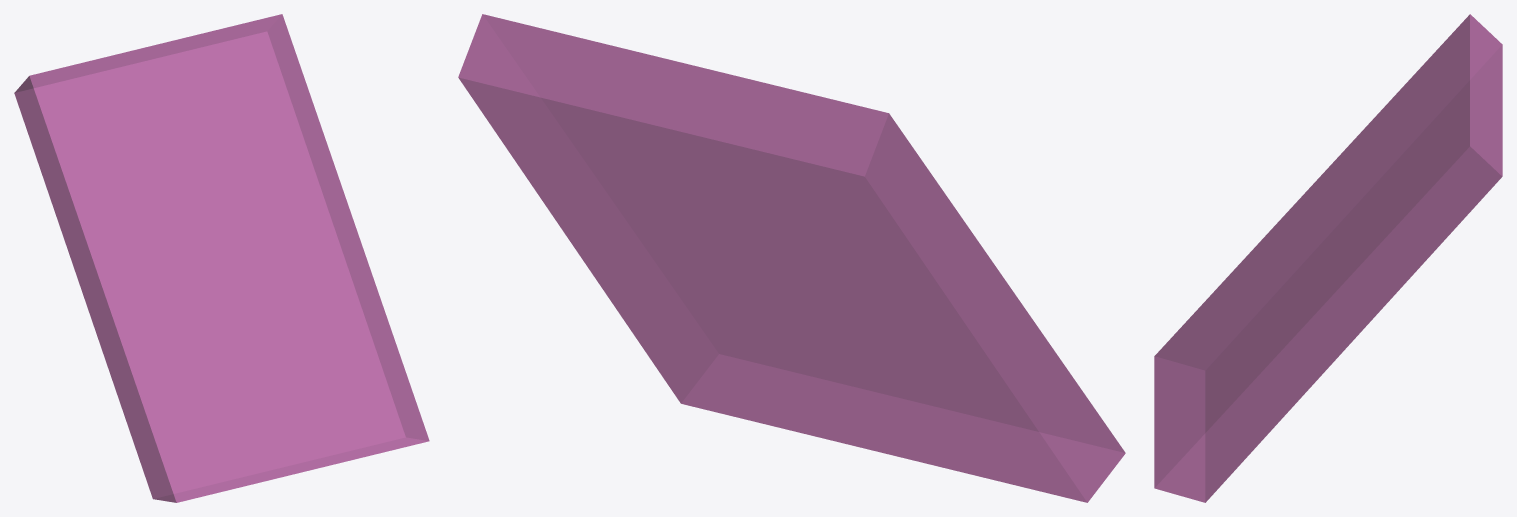
Rendered from SM_Bld_Roof_01_Collision.fbx.
3 views of the same model, side by side, from view 1: azimuth 30°, elevation 25°; view 2: azimuth 150°, elevation 25°; view 3: azimuth 270°, elevation 25° (orthographic). The views are drawn at different scales.
Visible parts, largest first — view 1: SM_Bld_Roof_01_Collision; view 2: SM_Bld_Roof_01_Collision; view 3: SM_Bld_Roof_01_Collision.
Boxes of the visible parts, <box> form: SM_Bld_Roof_01_Collision: <box>14,14,429,502</box>; SM_Bld_Roof_01_Collision: <box>458,14,1125,502</box>; SM_Bld_Roof_01_Collision: <box>1154,14,1502,502</box>.
Size of the model in its own units: 257 by 323 by 285.
